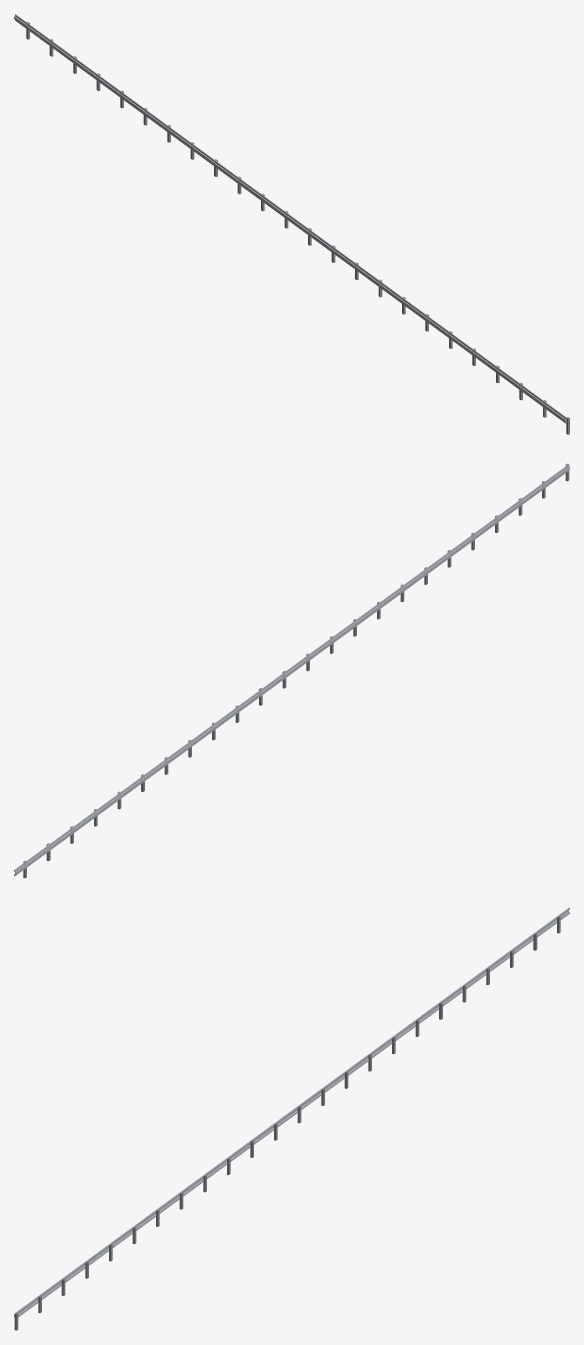
The model's file is Guardrail47.obj.
3 views of the same model, one above another, from view 1: azimuth 30°, elevation 25°; view 2: azimuth 150°, elevation 25°; view 3: azimuth 330°, elevation 25° (orthographic).
Parts seen in each view (by area): view 1: Guardrail47; view 2: Guardrail47; view 3: Guardrail47.
Part boxes in pixels (<box>): Guardrail47: <box>14,14,569,434</box>; Guardrail47: <box>14,463,569,878</box>; Guardrail47: <box>14,907,569,1330</box>.
Size of the model in its own units: 0.17 by 0.765 by 47.07.
1 material, 1 textured.
